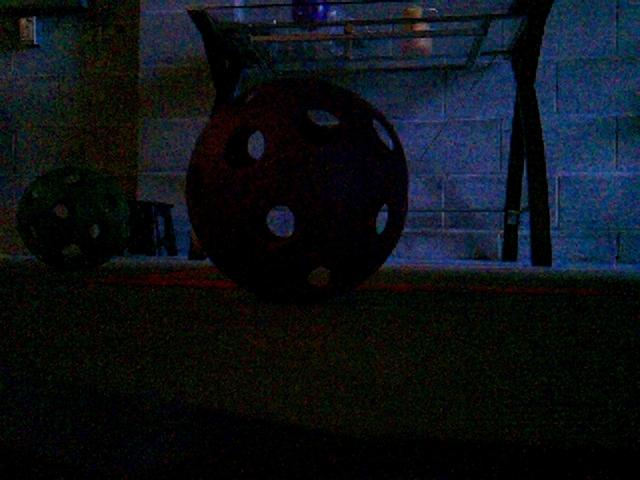Green: (13, 164, 132, 270)
Purple: (182, 79, 410, 302)
